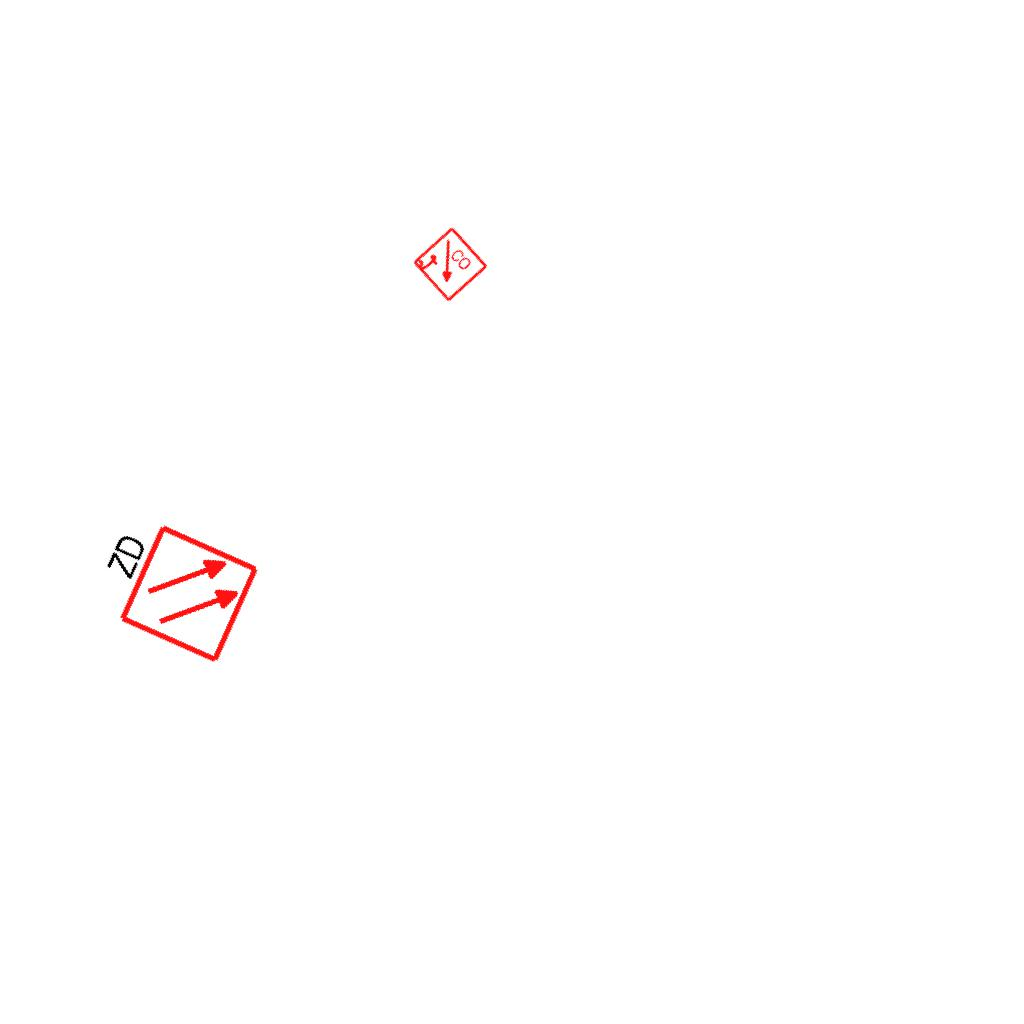ROA_Rauchmelder_optisch_mit_Signalgeber_(Sockelsirene): (410, 225, 490, 305)
ZD_Melder_in_Zwischendecke_mit_Revisionsoeffnung_mind_40_x_40_cm: (79, 505, 263, 670)
